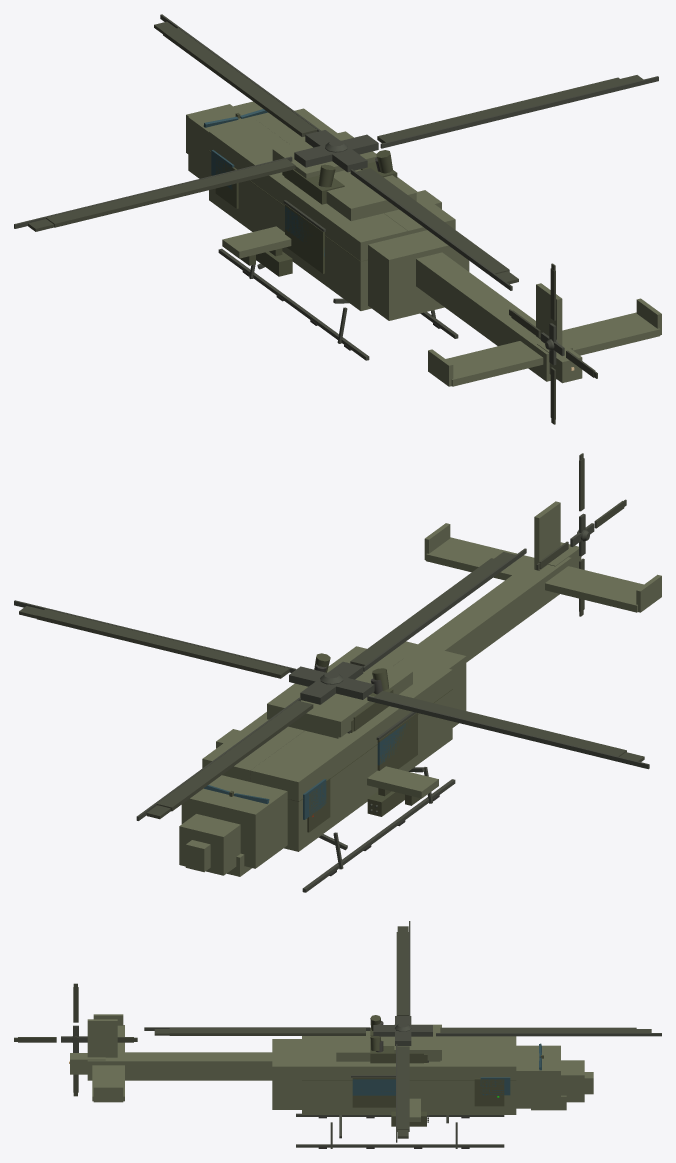
File: attack_helicopter.glb
3 renders of one model, top to bottom at view 1: azimuth 30°, elevation 25°; view 2: azimuth 150°, elevation 25°; view 3: azimuth 270°, elevation 25°, orthographic. The views are drawn at different scales.
Visible parts, largest first — view 1: Fuselage_CabinCore, Fuselage_TailBoom, Fuselage_RearTransition, MainRotor_BladeSpan1, MainRotor_BladeSpan0, Fuselage_HStabL, Fuselage_HStabR, Fuselage_EngineFairingTop, MainRotor_BladeSpan3, Fuselage_NoseMid, MainRotor_BladeSpan2, MainRotor_BladeLE3 (+12 smaller); view 2: Fuselage_CabinCore, Fuselage_TailBoom, Fuselage_NoseMid, MainRotor_BladeSpan3, MainRotor_BladeSpan0, Fuselage_GearboxFairing, Fuselage_HStabL, Fuselage_NoseTip, MainRotor_BladeSpan1, MainRotor_BladeSpan2, Fuselage_HStabR, Fuselage_RearTransition (+13 smaller); view 3: Fuselage_CabinCore, Fuselage_TailBoom, Fuselage_NoseMid, Fuselage_RearTransition, MainRotor_BladeSpan2, Fuselage_VertFin, MainRotor_BladeSpan0, MainRotor_BladeSpan3, MainRotor_BladeSpan1, Fuselage_EngineFairingTop, Fuselage_NoseTip, MainRotor_BladeLE0 (+10 smaller).
Part boxes in pixels (<box>): Fuselage_CabinCore: <box>209,108,455,310</box>; Fuselage_TailBoom: <box>416,252,572,381</box>; Fuselage_RearTransition: <box>368,230,469,320</box>; MainRotor_BladeSpan1: <box>46,159,295,227</box>; MainRotor_BladeSpan0: <box>163,28,317,136</box>; Fuselage_HStabL: <box>446,341,543,386</box>; Fuselage_HStabR: <box>562,312,660,355</box>; Fuselage_EngineFairingTop: <box>326,169,416,221</box>; MainRotor_BladeSpan3: <box>377,77,626,143</box>; Fuselage_NoseMid: <box>188,101,272,178</box>; MainRotor_BladeSpan2: <box>356,168,509,274</box>; MainRotor_BladeLE3: <box>380,76,658,148</box>; Fuselage_CabinCore: <box>202,646,452,851</box>; Fuselage_TailBoom: <box>418,557,571,662</box>; Fuselage_NoseMid: <box>181,775,287,868</box>; MainRotor_BladeSpan3: <box>36,609,289,678</box>; MainRotor_BladeSpan0: <box>157,700,313,811</box>; Fuselage_GearboxFairing: <box>267,683,373,737</box>; Fuselage_HStabL: <box>545,566,643,612</box>; Fuselage_NoseTip: <box>179,814,240,875</box>; MainRotor_BladeSpan1: <box>374,691,626,756</box>; MainRotor_BladeSpan2: <box>350,558,505,666</box>; Fuselage_HStabR: <box>426,537,534,580</box>; Fuselage_RearTransition: <box>389,641,466,727</box>; Fuselage_CabinCore: <box>302,1036,516,1114</box>; Fuselage_TailBoom: <box>87,1052,272,1080</box>; Fuselage_NoseMid: <box>516,1045,560,1108</box>; Fuselage_RearTransition: <box>272,1039,301,1109</box>; MainRotor_BladeSpan2: <box>169,1028,365,1035</box>; Fuselage_VertFin: <box>87,1019,117,1057</box>; MainRotor_BladeSpan0: <box>440,1027,636,1032</box>; MainRotor_BladeSpan3: <box>397,1046,409,1131</box>; MainRotor_BladeSpan1: <box>396,932,408,1015</box>; Fuselage_EngineFairingTop: <box>336,1031,440,1061</box>; Fuselage_NoseTip: <box>561,1060,584,1102</box>; MainRotor_BladeLE0: <box>436,1033,661,1036</box>.
Size of the model in its own units: 17.4 by 5.35 by 21.78.
